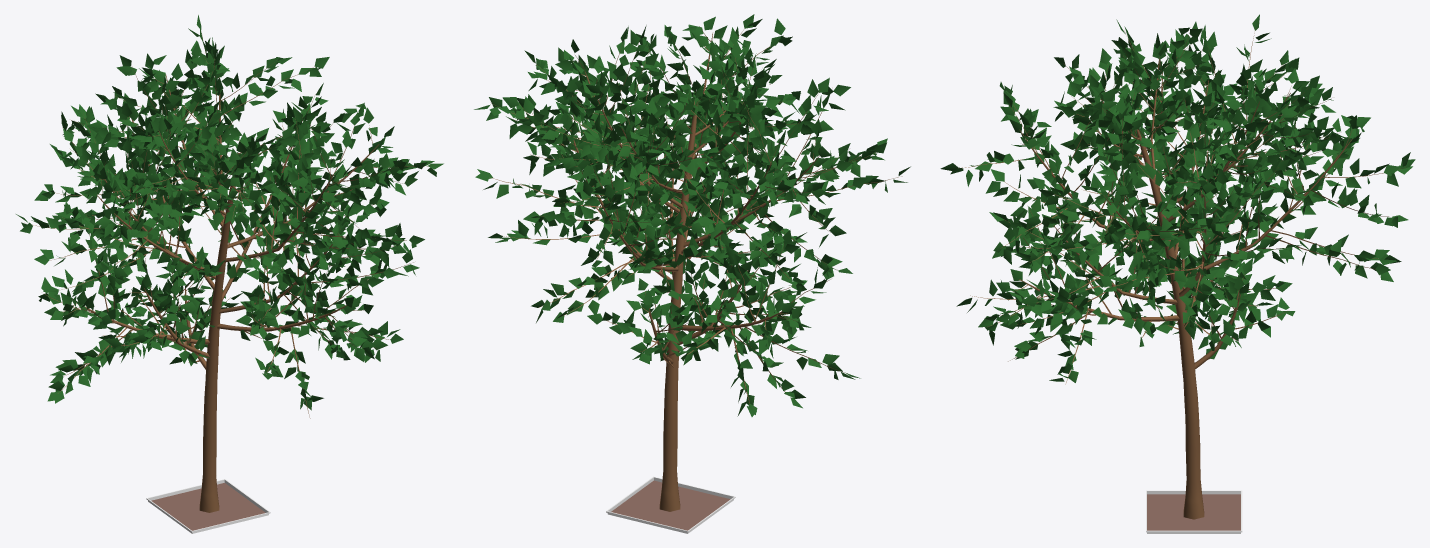
File: Tree01.fbx
3 renders of one model, left to right at view 1: azimuth 30°, elevation 25°; view 2: azimuth 150°, elevation 25°; view 3: azimuth 270°, elevation 25°, orthographic. The views are drawn at different scales.
Parts seen in each view (by area): view 1: Model; view 2: Model; view 3: Model.
Boxes of the visible parts, box(x1,y1,x2,y2) form: Model: box(16, 15, 443, 533); Model: box(474, 14, 910, 533); Model: box(940, 14, 1415, 533).
Size of the model in its own units: 3.72 by 4.46 by 3.95.
